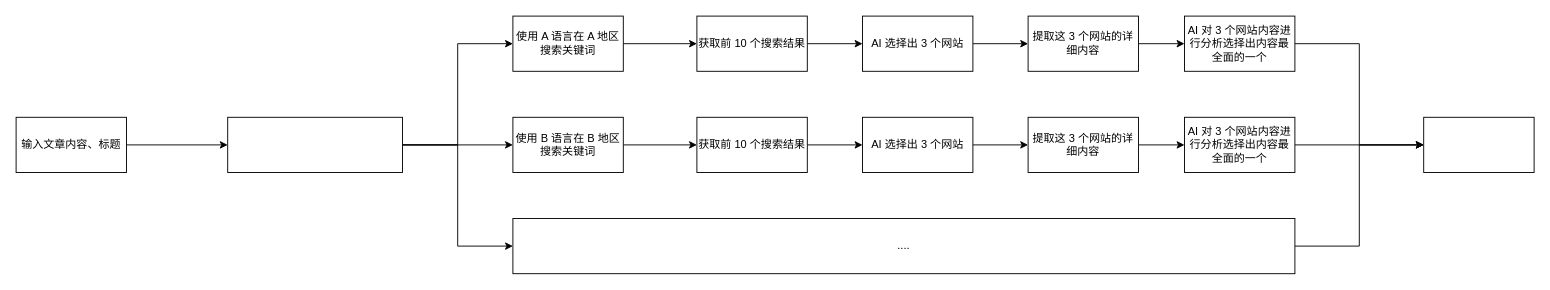
This 1550x290 diagram has some shape labels left out. The shapes that lost their labels are listed below. From the top down, each one's box as (x1, y1, x2, y2) in pixels, then its label:
(227, 116, 402, 172): AI 提取 1. 设计到的国家 2. 这个国家对应的语言 3. 搜索的关键词
(1423, 116, 1534, 172): AI 对内容进行对比，提取相同、不同之处
